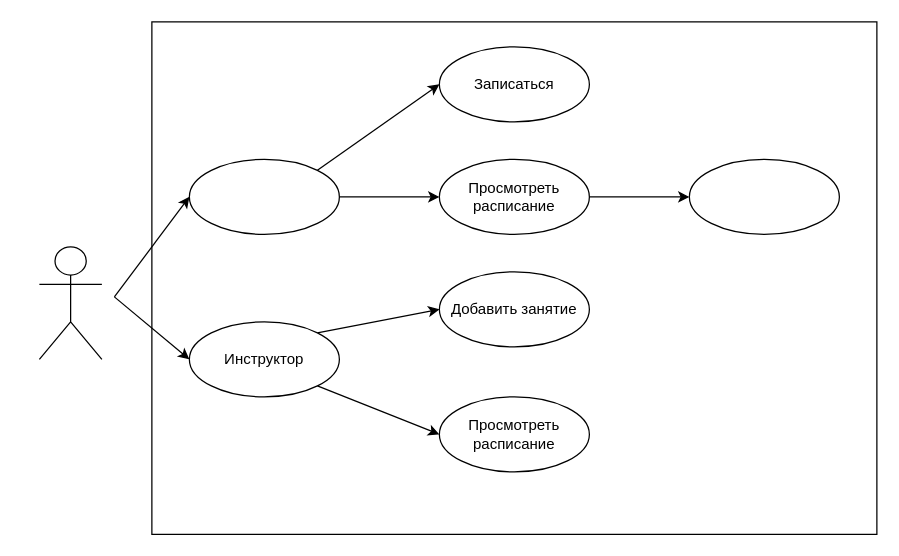
Image size: 899x556. Some labels were removed from this diagram. Here are the shapes that lost their labels. From the top down, the centre of each, then its label:
At [263,196]: "Ученик".
At [763,196]: "Отменить занятие".
At [70,302]: "Пользователь".
